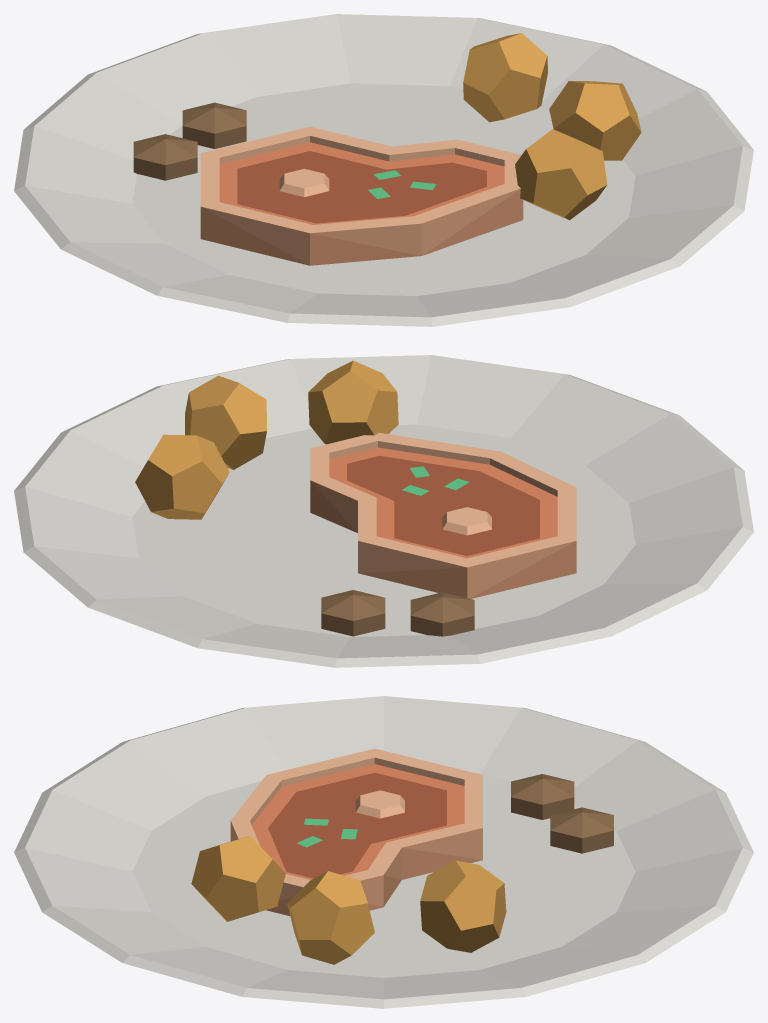
The model's file is m-steak.glb.
3 views of the same model, one above another, from view 1: azimuth 30°, elevation 25°; view 2: azimuth 150°, elevation 25°; view 3: azimuth 270°, elevation 25° (orthographic).
Visible parts, largest first — view 1: m_steak; view 2: m_steak; view 3: m_steak.
Boxes of the visible parts, box(x1,y1,x2,y2) form: m_steak: box(14, 14, 753, 326); m_steak: box(14, 355, 753, 667); m_steak: box(14, 696, 753, 1008).
Size of the model in its own units: 0.28 by 0.0474 by 0.28.
